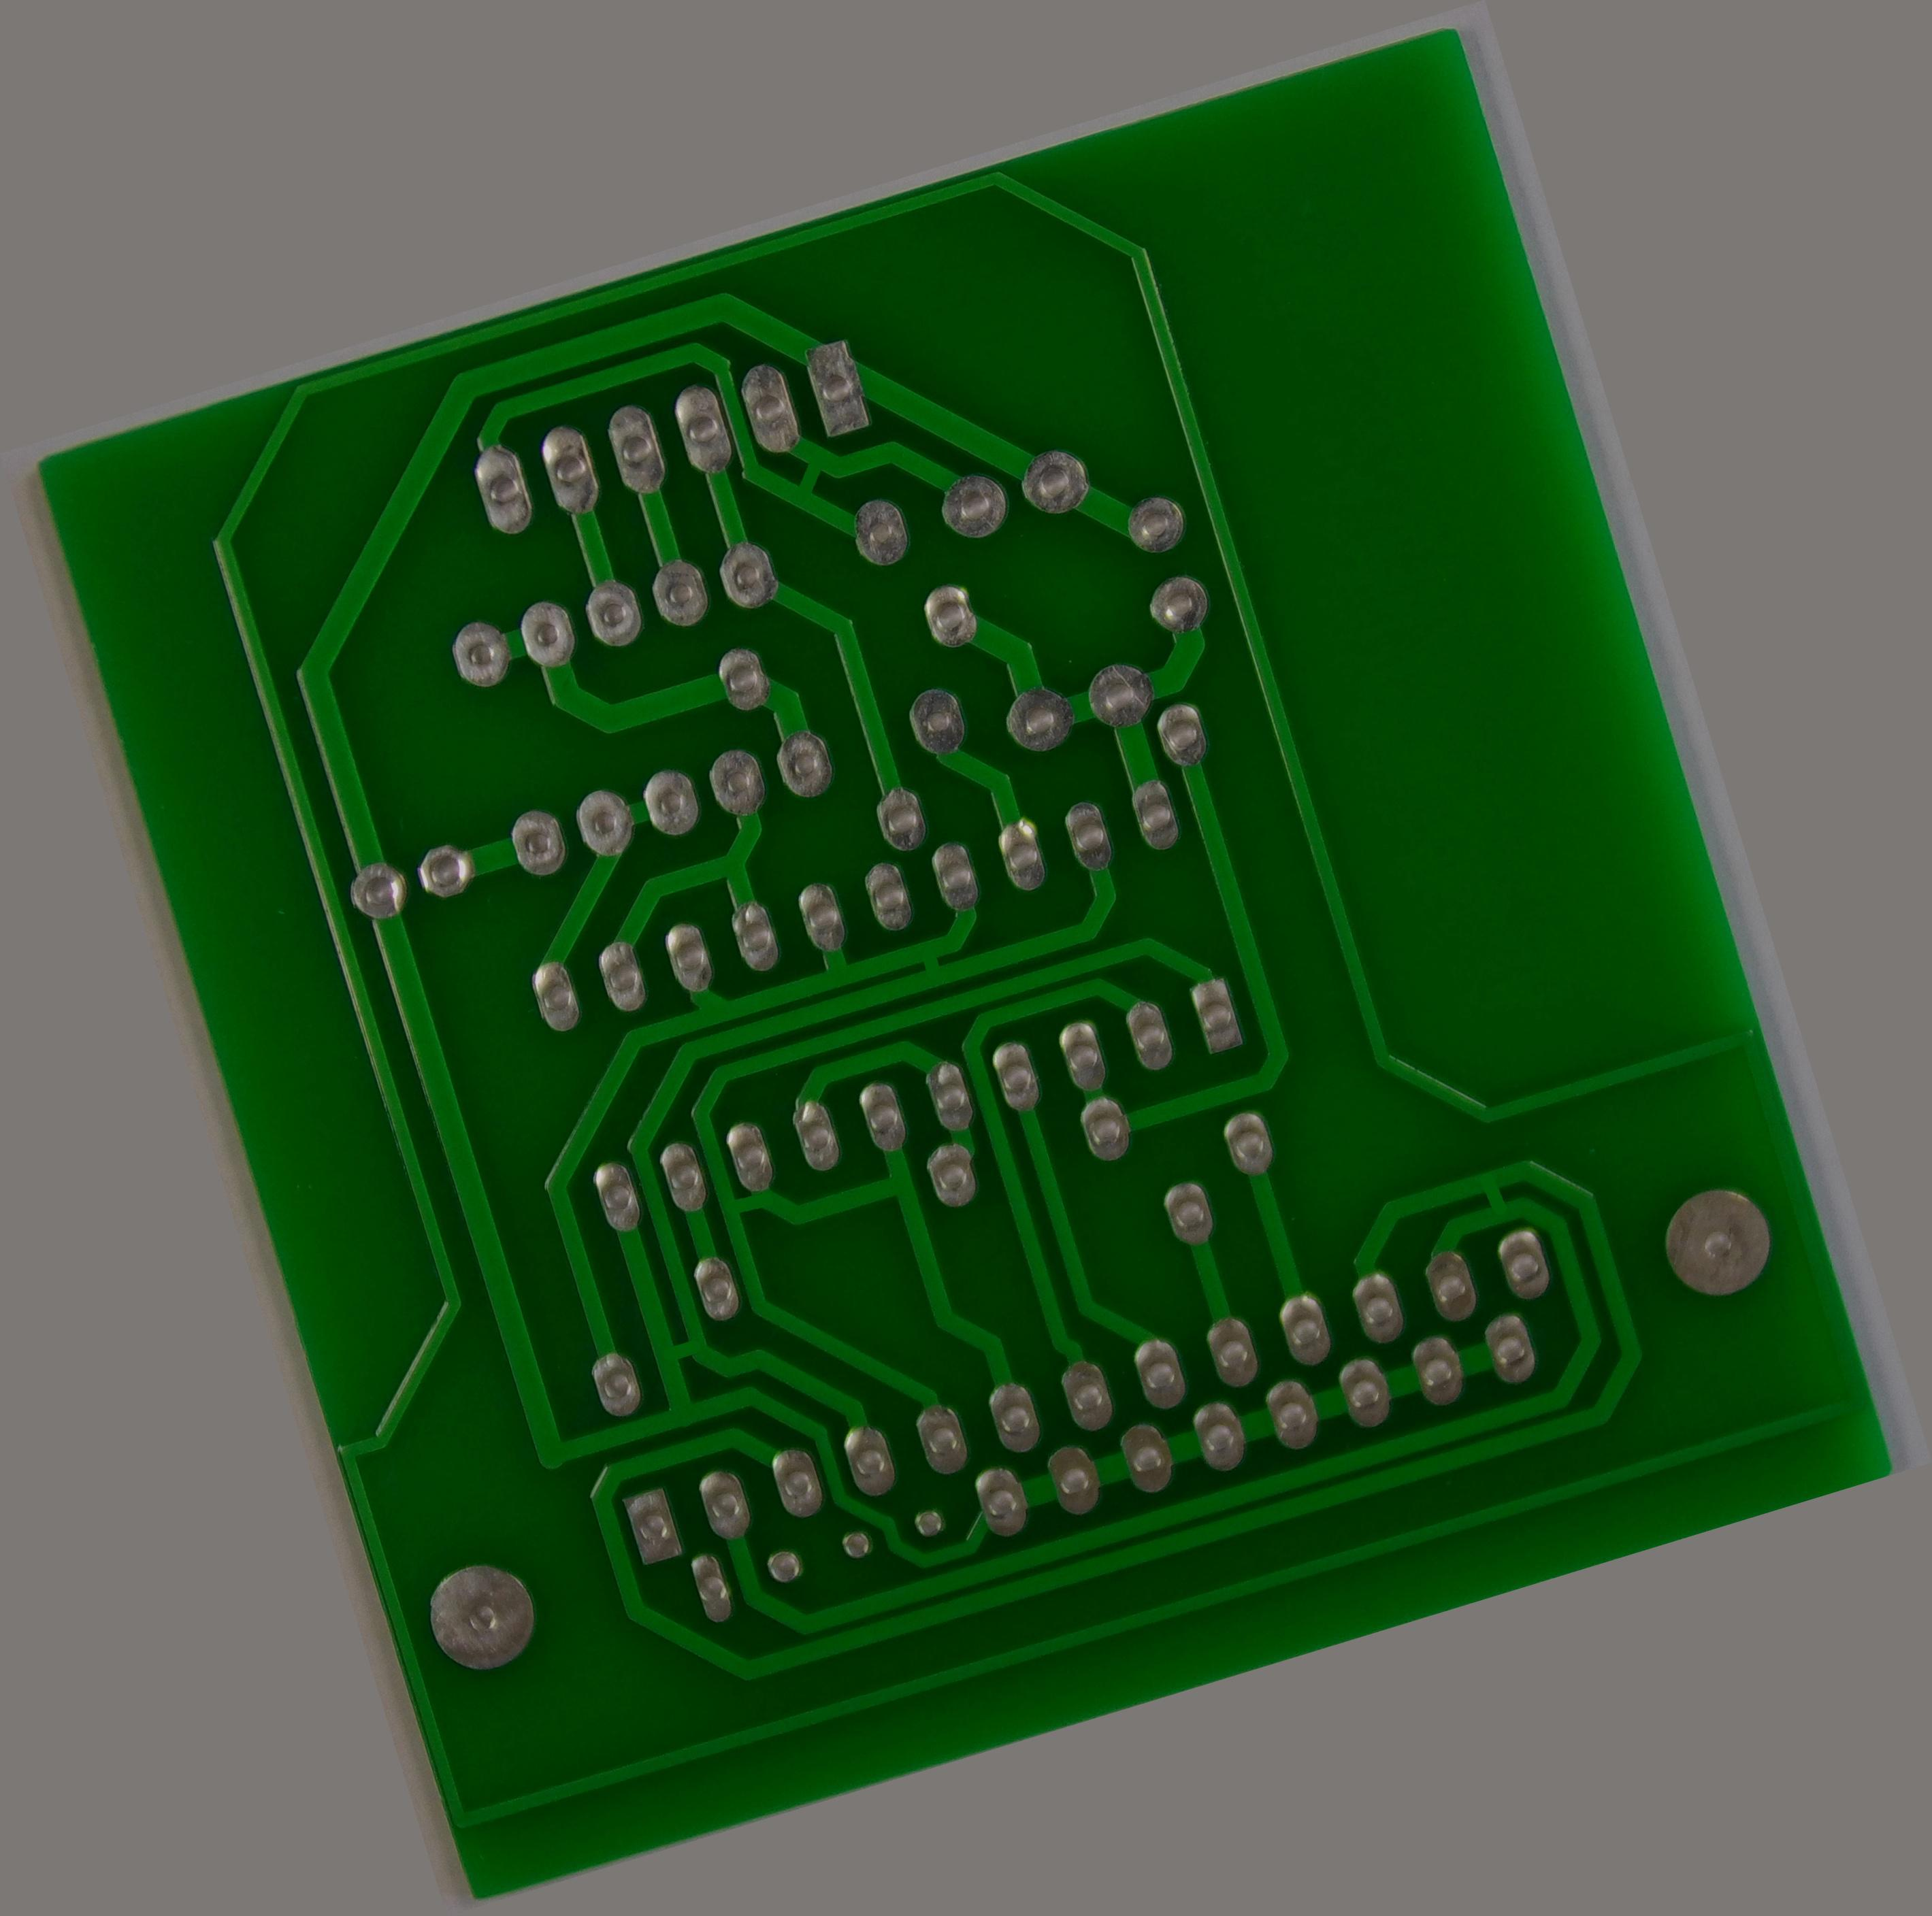short: (709, 1158, 795, 1242), (767, 433, 849, 518), (1455, 1155, 1532, 1237), (633, 1316, 719, 1388), (890, 926, 967, 997)
